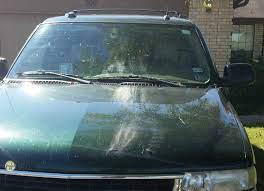bonnet-dent: (0, 82, 248, 182)
